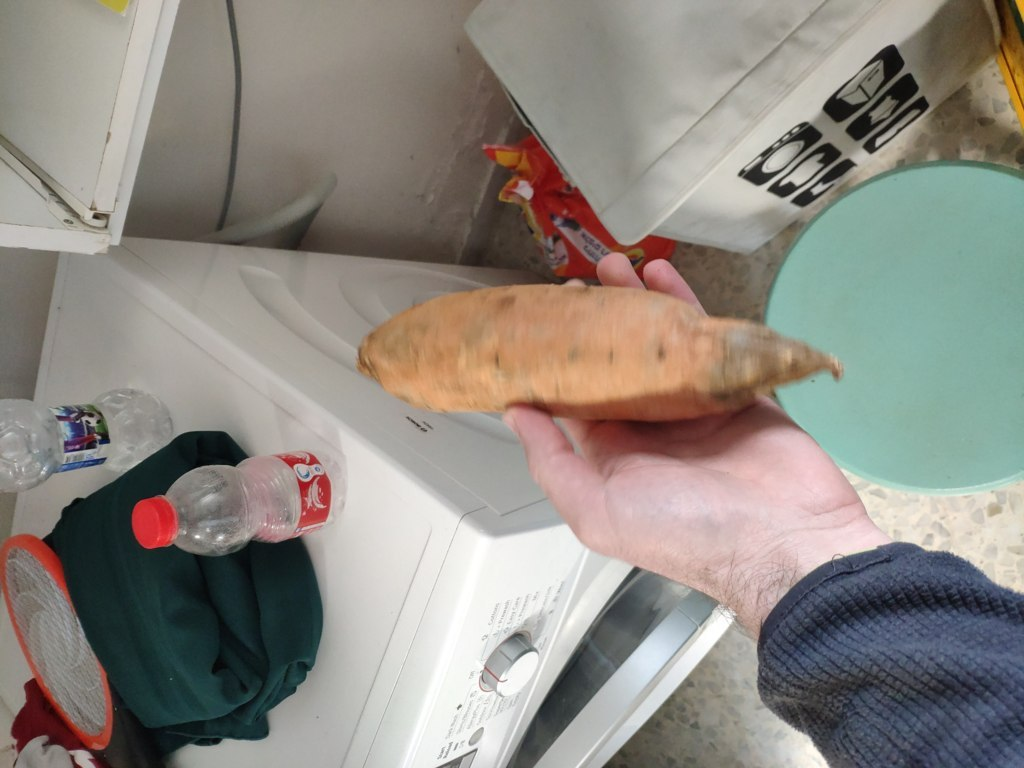Sweet Potato: (415, 303, 742, 450)
